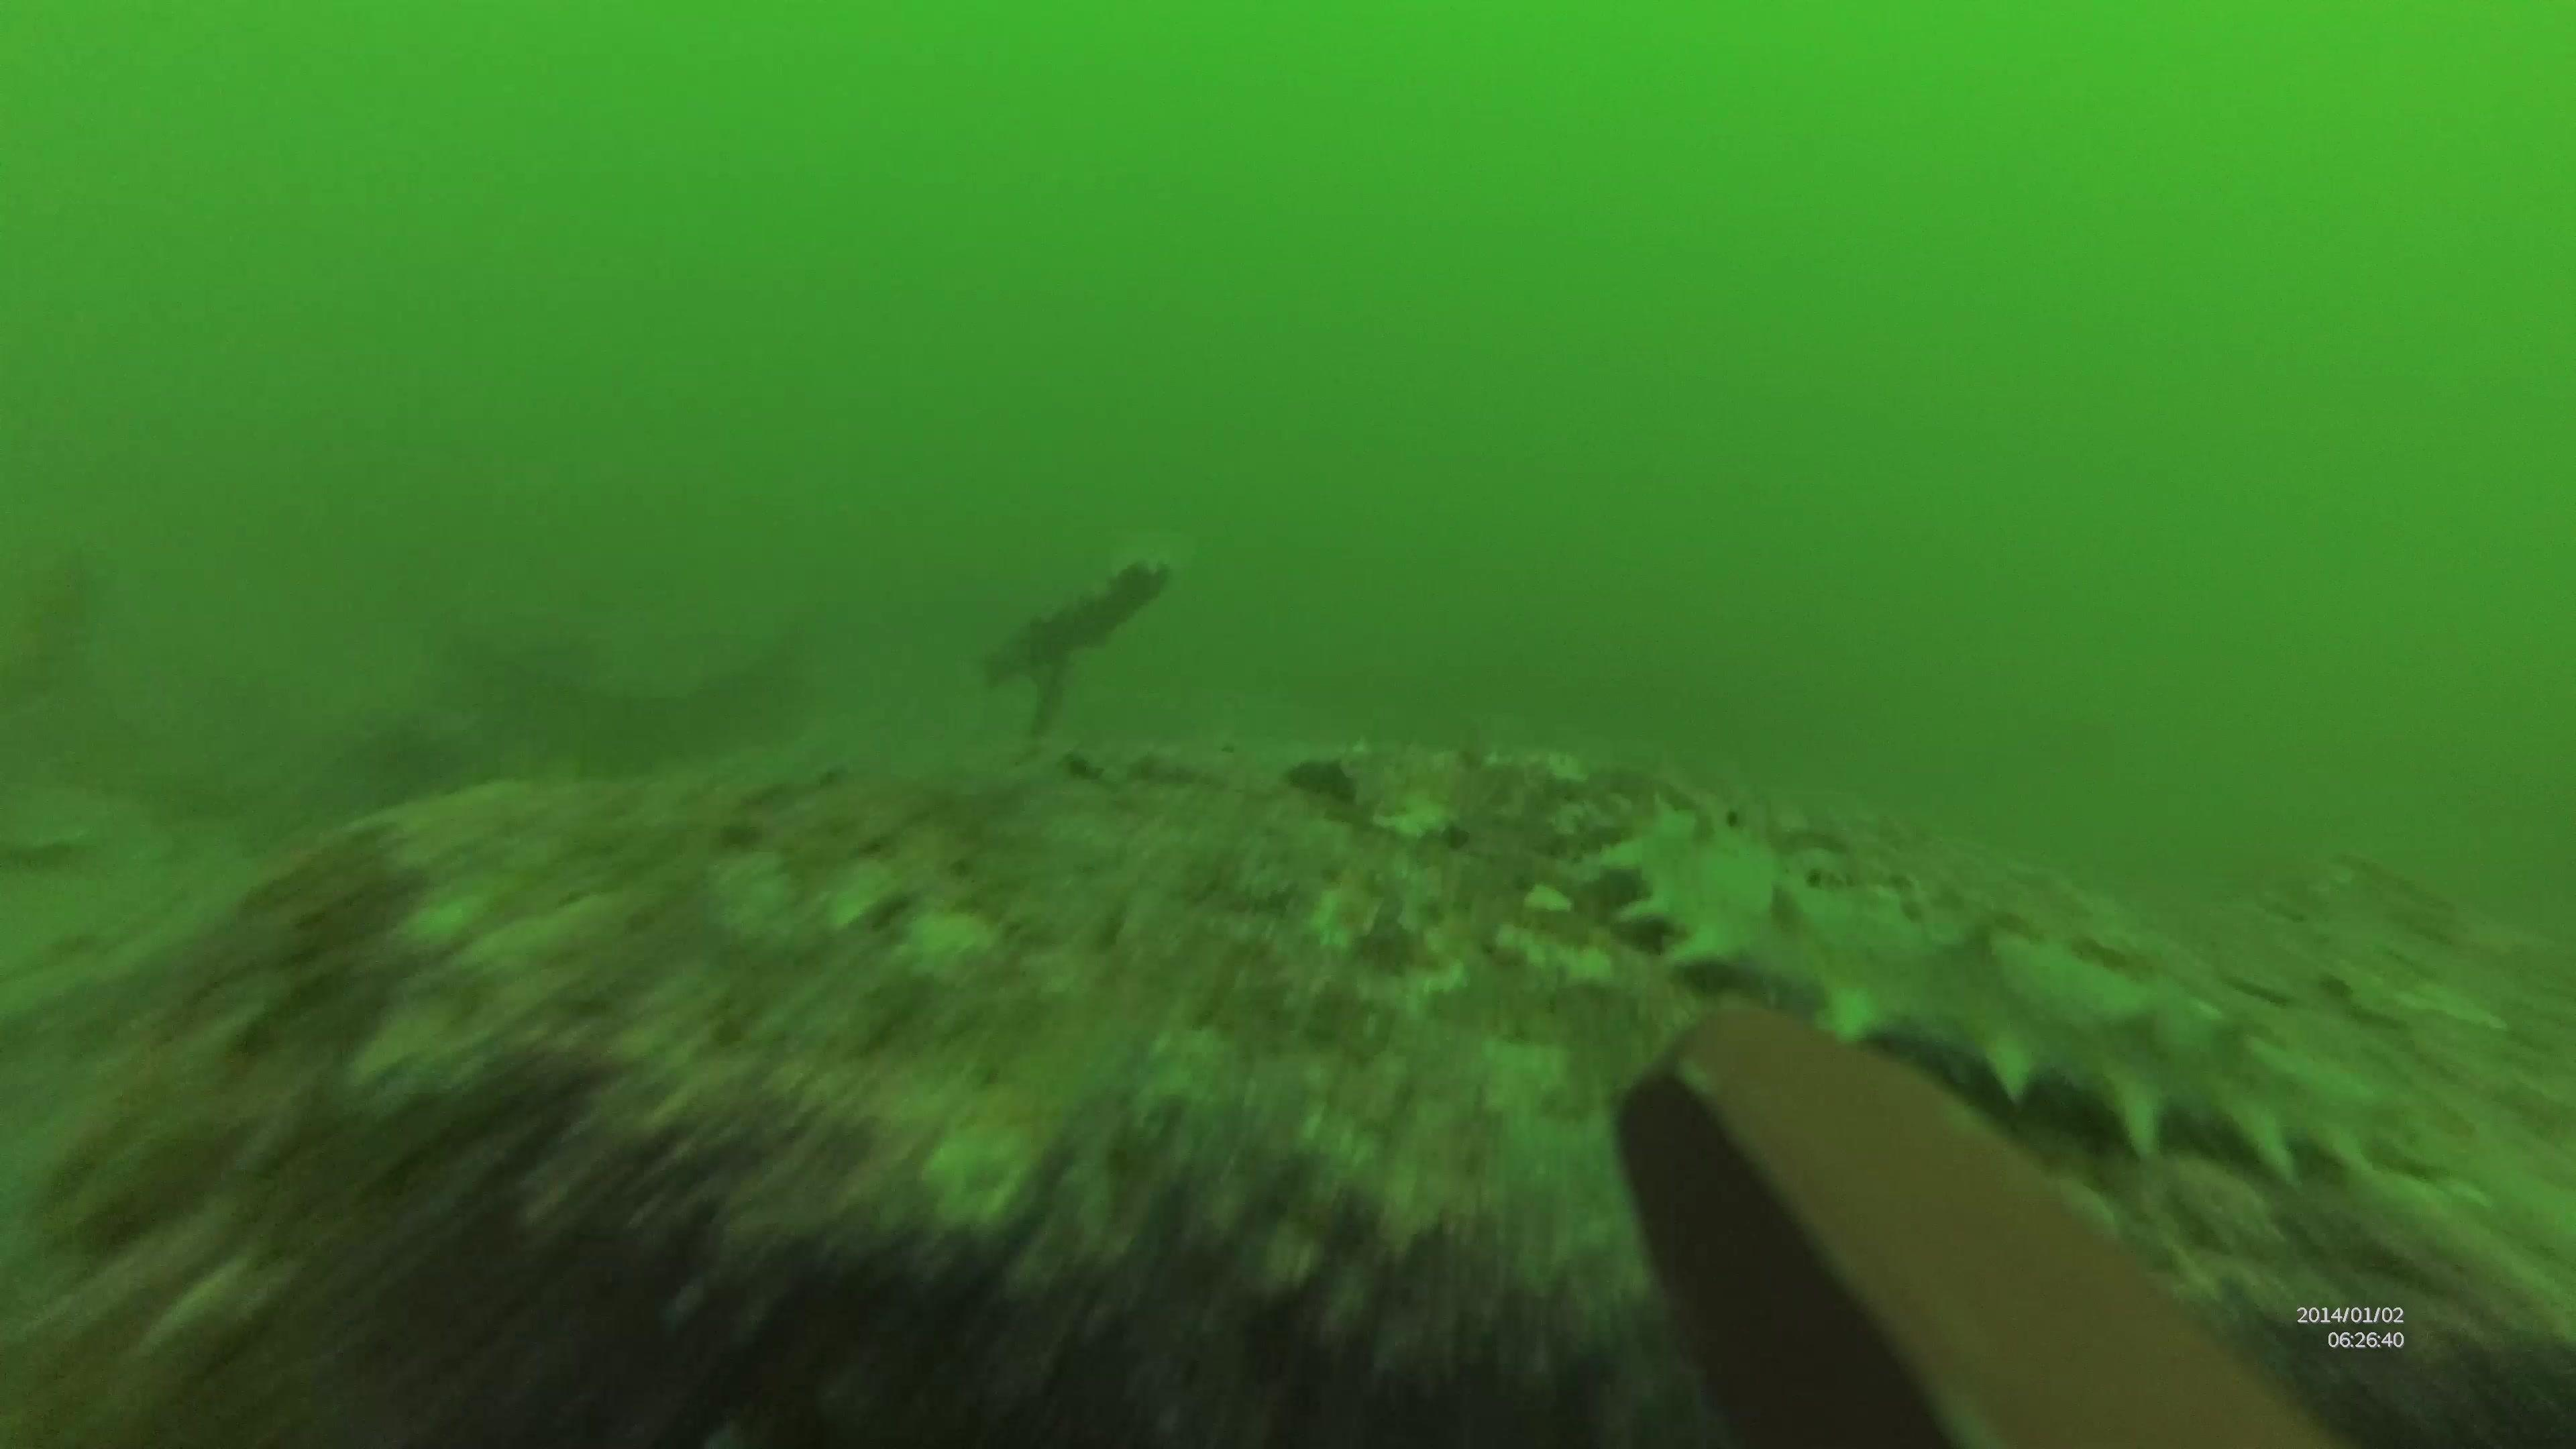holothurian: (1603, 777, 2388, 1169)
